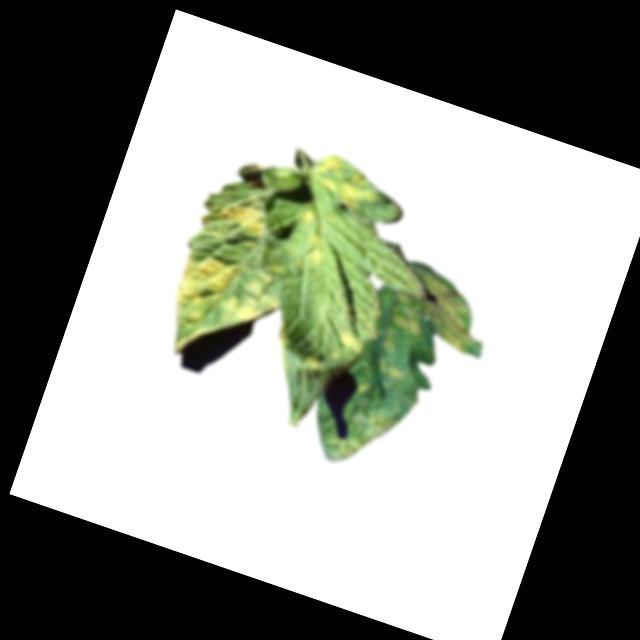Leaf_Mold: (155, 243, 289, 372), (384, 258, 490, 357), (305, 148, 387, 217), (325, 399, 399, 472), (214, 197, 271, 242), (297, 229, 330, 272), (328, 327, 366, 354), (297, 345, 329, 376), (292, 199, 322, 232), (374, 356, 407, 382), (352, 379, 370, 397)
